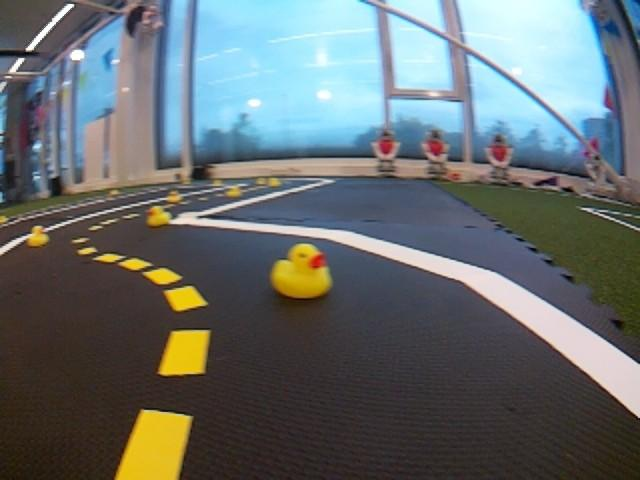Duckies: (269, 243, 334, 298), (144, 205, 173, 227), (26, 224, 50, 248), (225, 186, 242, 198), (166, 191, 182, 203), (268, 177, 282, 187), (255, 178, 267, 185), (1, 213, 9, 223), (212, 179, 222, 185)
